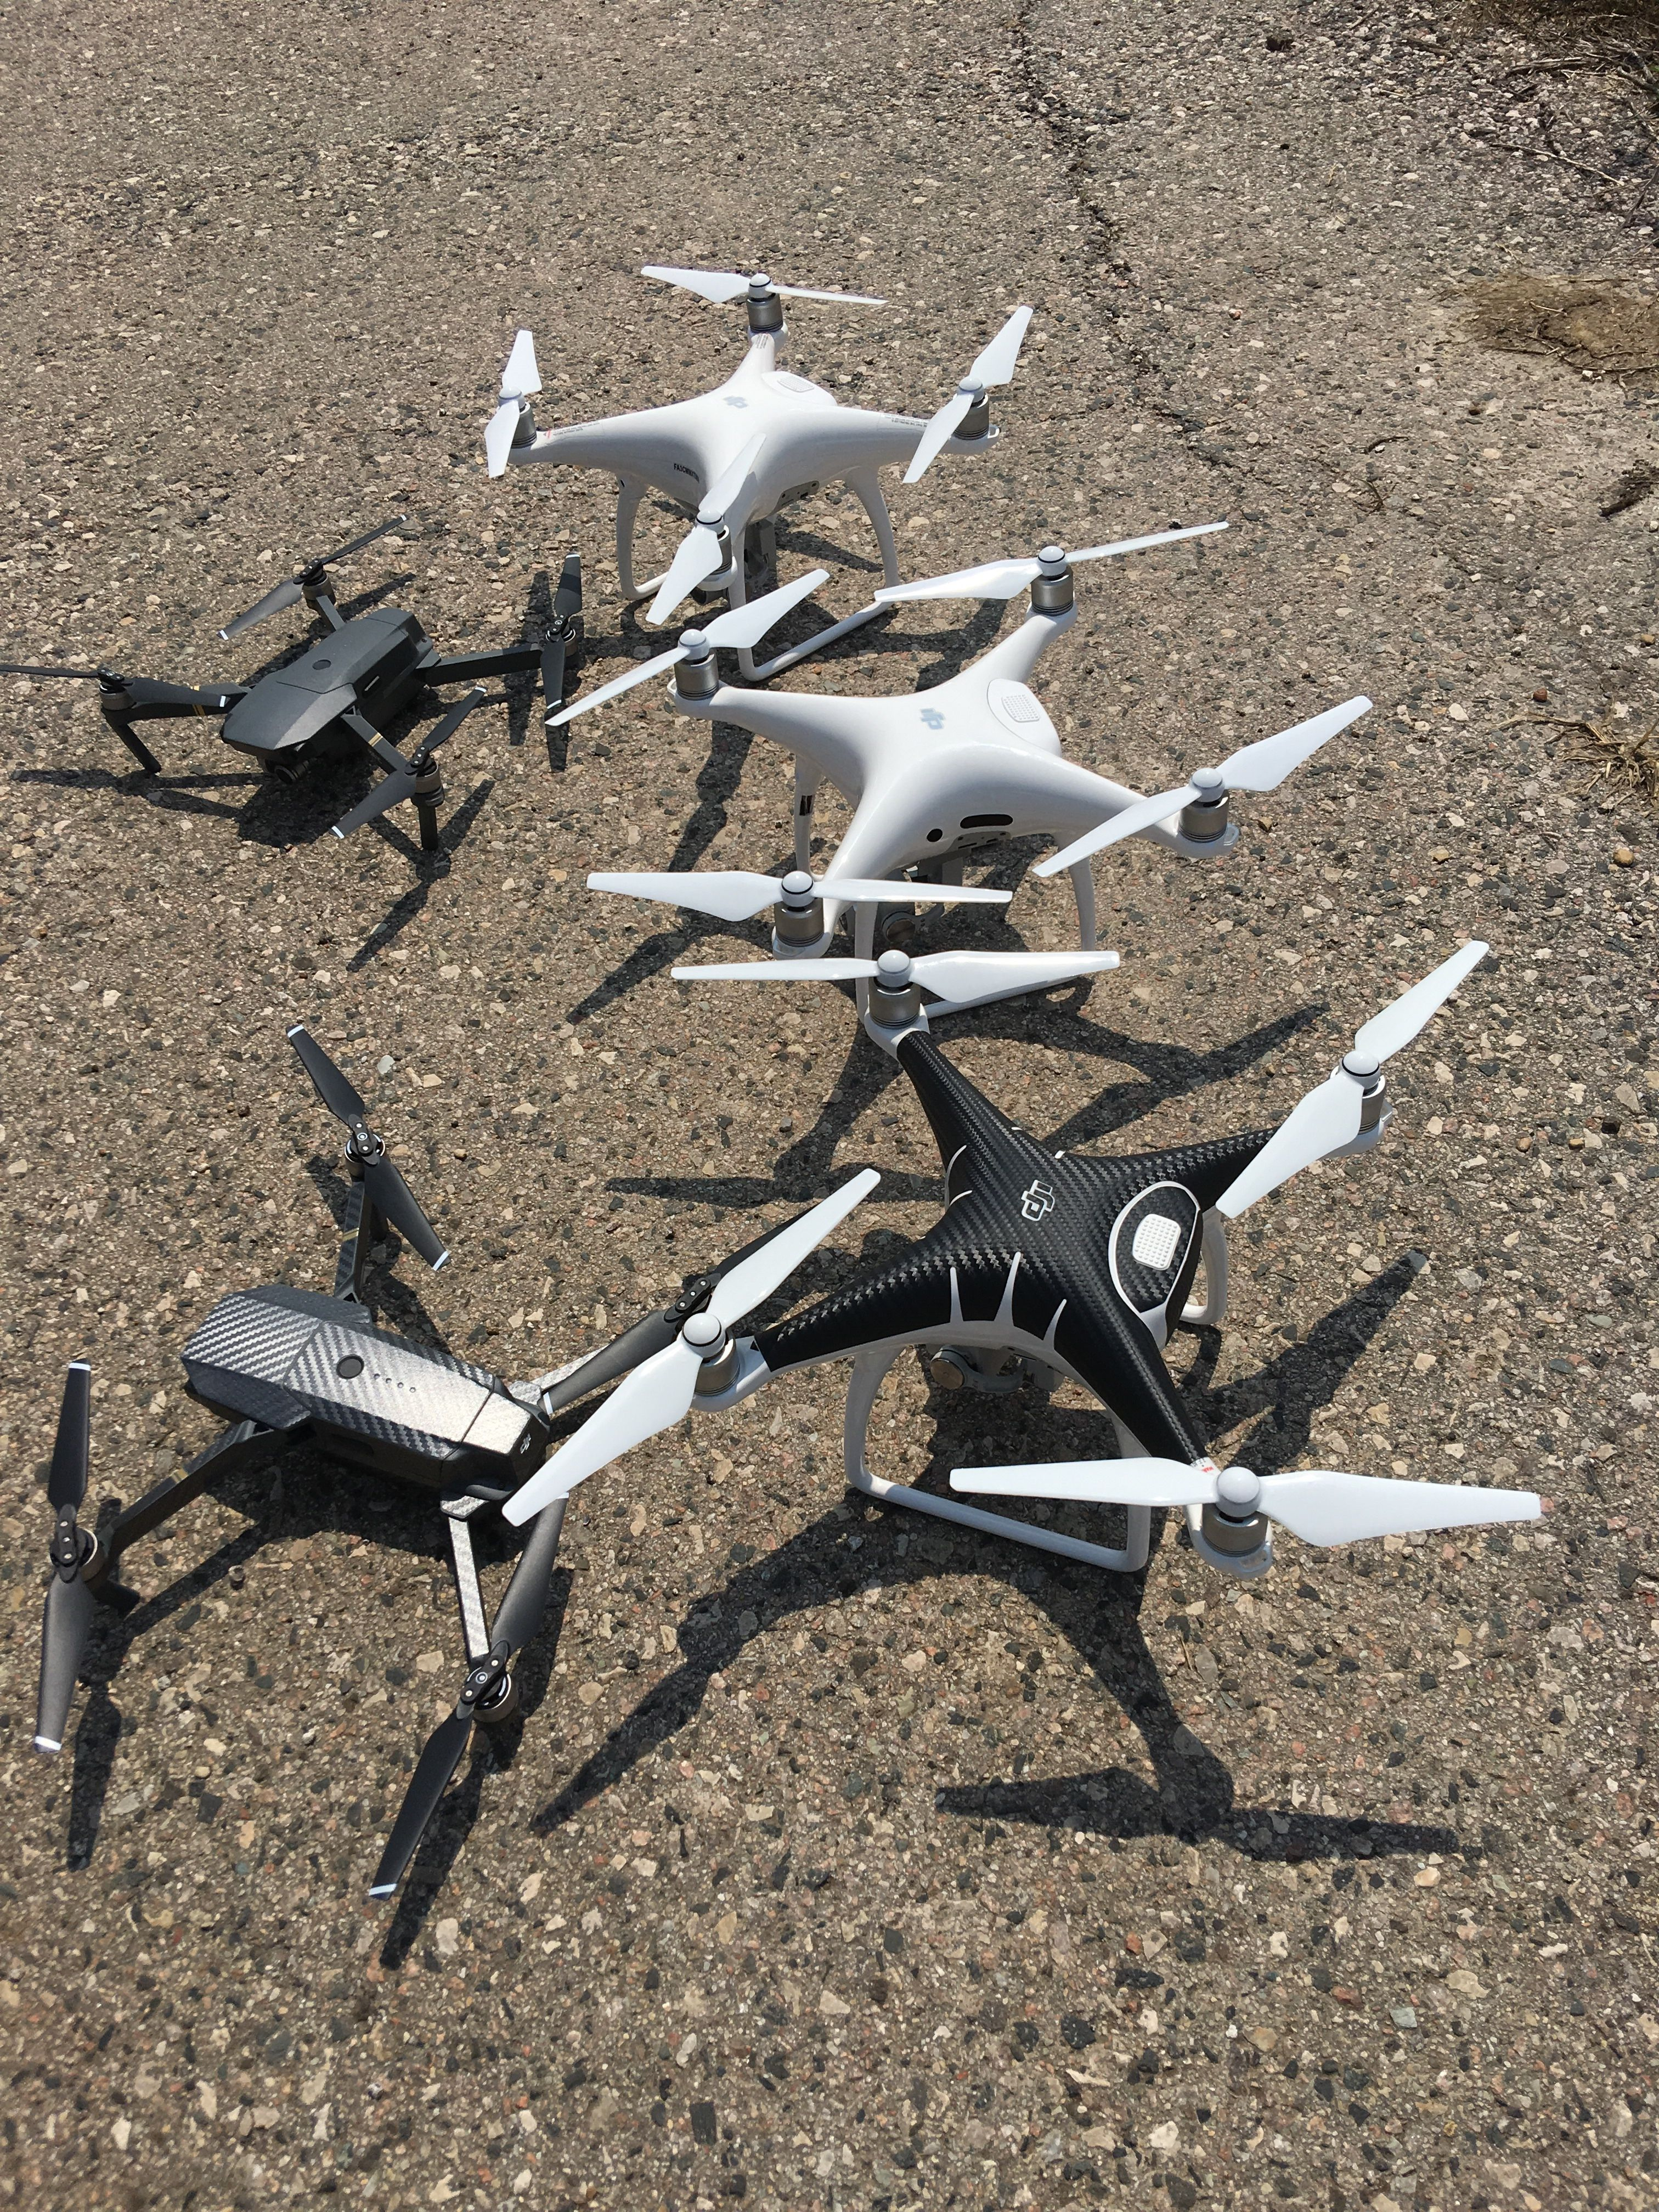drone: (500, 946, 1572, 1575), (35, 1022, 767, 1905), (561, 521, 1382, 981), (474, 249, 1049, 646), (24, 516, 601, 850)
shadow_of_drone: (512, 1244, 1480, 1871)
